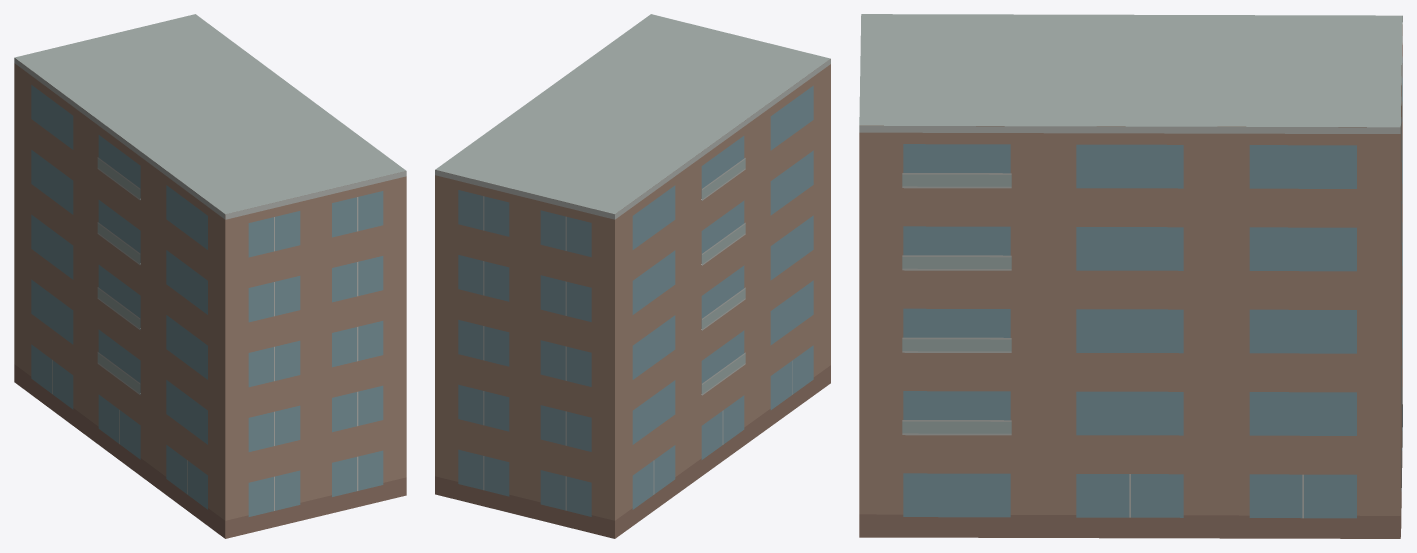
Rendered from survey-upis-32918844.glb.
3 views of the same model, side by side, from view 1: azimuth 30°, elevation 25°; view 2: azimuth 150°, elevation 25°; view 3: azimuth 270°, elevation 25° (orthographic). The views are drawn at different scales.
Parts seen in each view (by area): view 1: survey-upis-32918844.tmp; view 2: survey-upis-32918844.tmp; view 3: survey-upis-32918844.tmp.
Part boxes in pixels (x1=…): survey-upis-32918844.tmp: x1=14, y1=14, x2=406, y2=538; survey-upis-32918844.tmp: x1=435, y1=14, x2=830, y2=538; survey-upis-32918844.tmp: x1=859, y1=14, x2=1402, y2=538.
Size of the model in its own units: 8.56 by 14.5 by 17.36.
